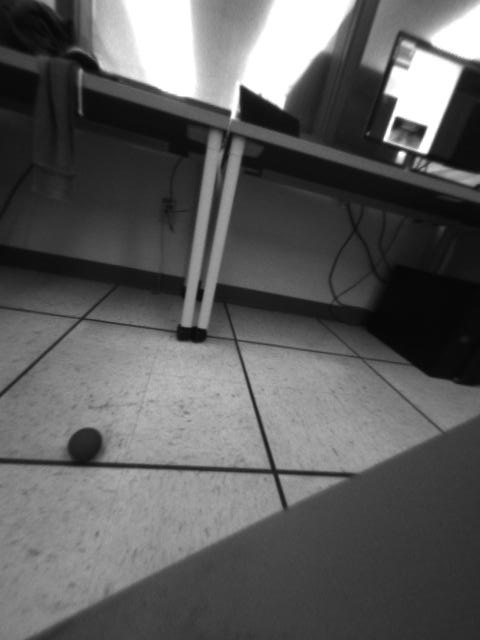dogtoy: (59, 419, 113, 467)
